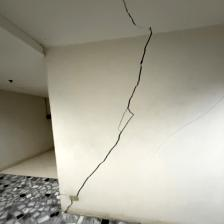High: (55, 1, 154, 214)
